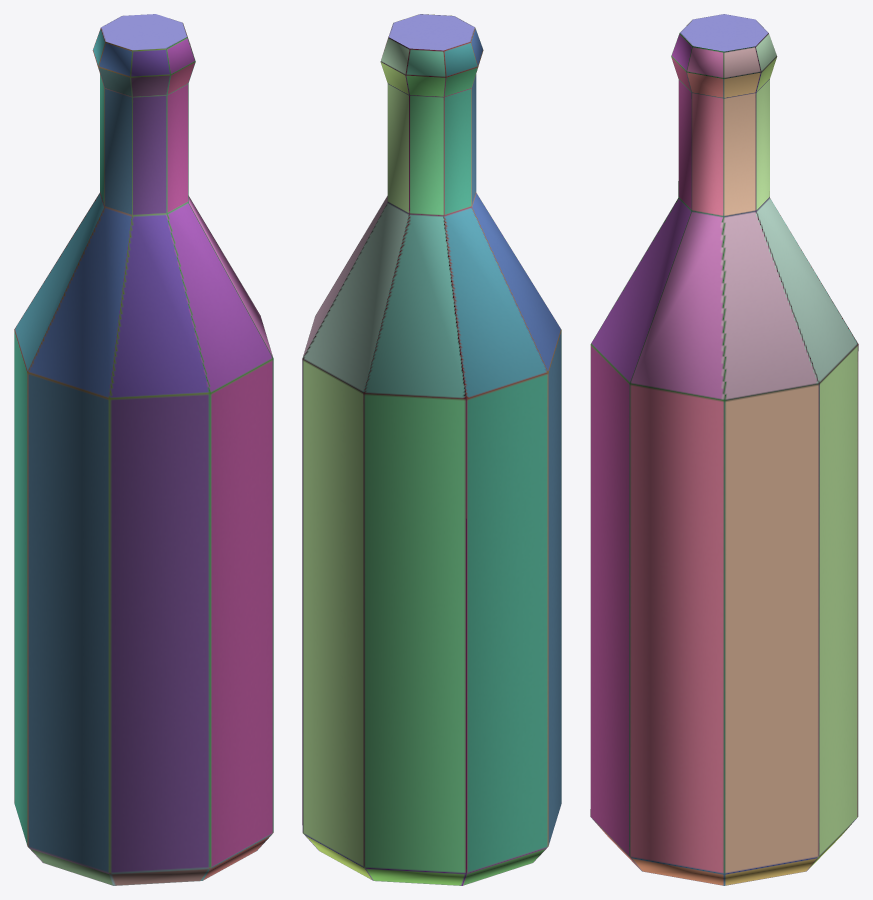
Rendered from kitchen_bottle.dae.
3 views of the same model, side by side, from view 1: azimuth 30°, elevation 25°; view 2: azimuth 150°, elevation 25°; view 3: azimuth 270°, elevation 25° (orthographic).
Visible parts, largest first — view 1: bottle; view 2: bottle; view 3: bottle.
Part boxes in pixels (x1,y1,x2,y2): bottle: (14,14,273,885); bottle: (302,14,561,885); bottle: (590,14,858,885).
Size of what is drawn, in the model's own units: 0.0876 by 0.2895 by 0.0874.
